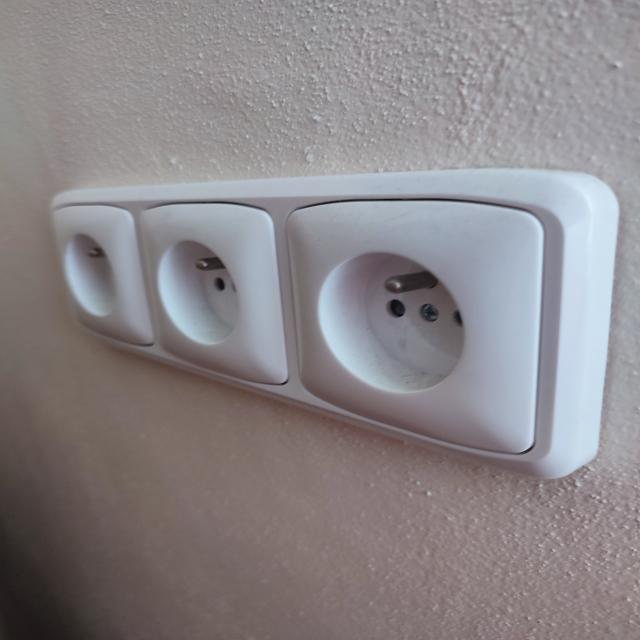house plug: (315, 238, 500, 422), (146, 232, 255, 357), (61, 231, 125, 325)
